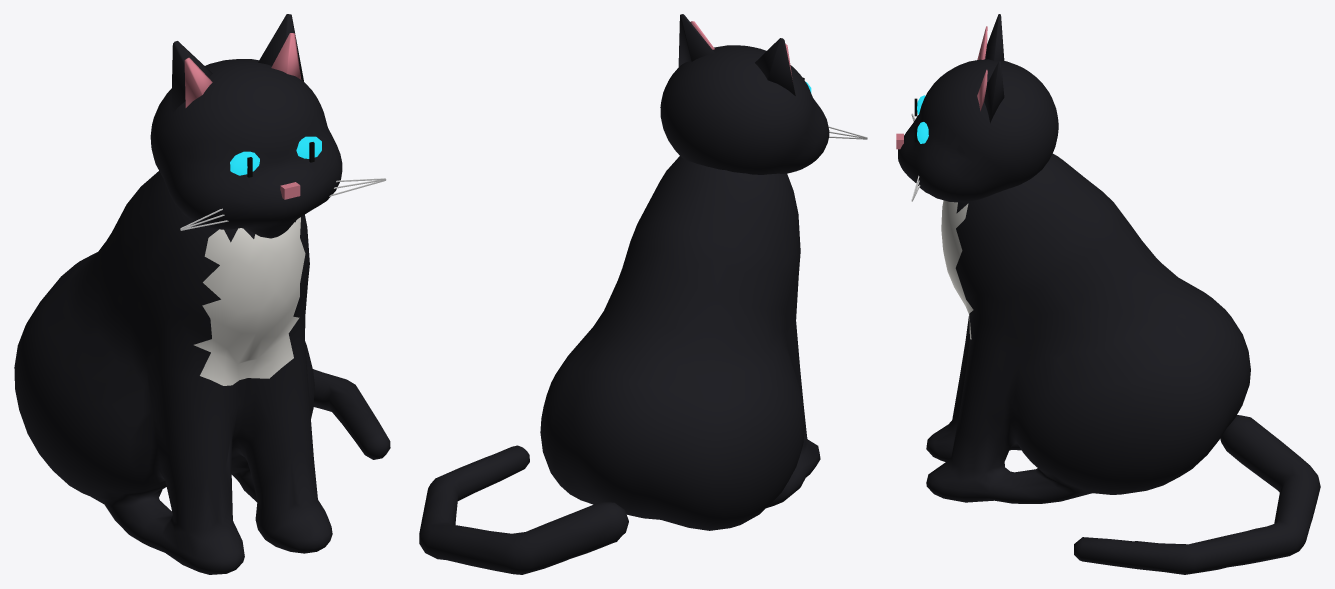
File: Pet_Cat_Sitting.001.gltf
The picture shows the model from 3 angles, left to right: view 1: azimuth 30°, elevation 25°; view 2: azimuth 150°, elevation 25°; view 3: azimuth 270°, elevation 25°; orthographic projection. The views are drawn at different scales.
Visible parts, largest first — view 1: Pet_Cat_Sitting.001, Cat_Head.001, Cat_Tail.001; view 2: Pet_Cat_Sitting.001, Cat_Head.001, Cat_Tail.001; view 3: Pet_Cat_Sitting.001, Cat_Head.001, Cat_Tail.001.
Part boxes in pixels (<box>): Pet_Cat_Sitting.001: <box>14,171,332,574</box>; Cat_Head.001: <box>150,14,386,238</box>; Cat_Tail.001: <box>313,369,390,459</box>; Pet_Cat_Sitting.001: <box>540,156,820,530</box>; Cat_Head.001: <box>660,14,867,174</box>; Cat_Tail.001: <box>419,445,628,574</box>; Pet_Cat_Sitting.001: <box>926,153,1250,503</box>; Cat_Head.001: <box>896,14,1058,202</box>; Cat_Tail.001: <box>1074,415,1320,574</box>.
Bounding box in the file's own units: 0.2773 × 0.385 × 0.3318.
